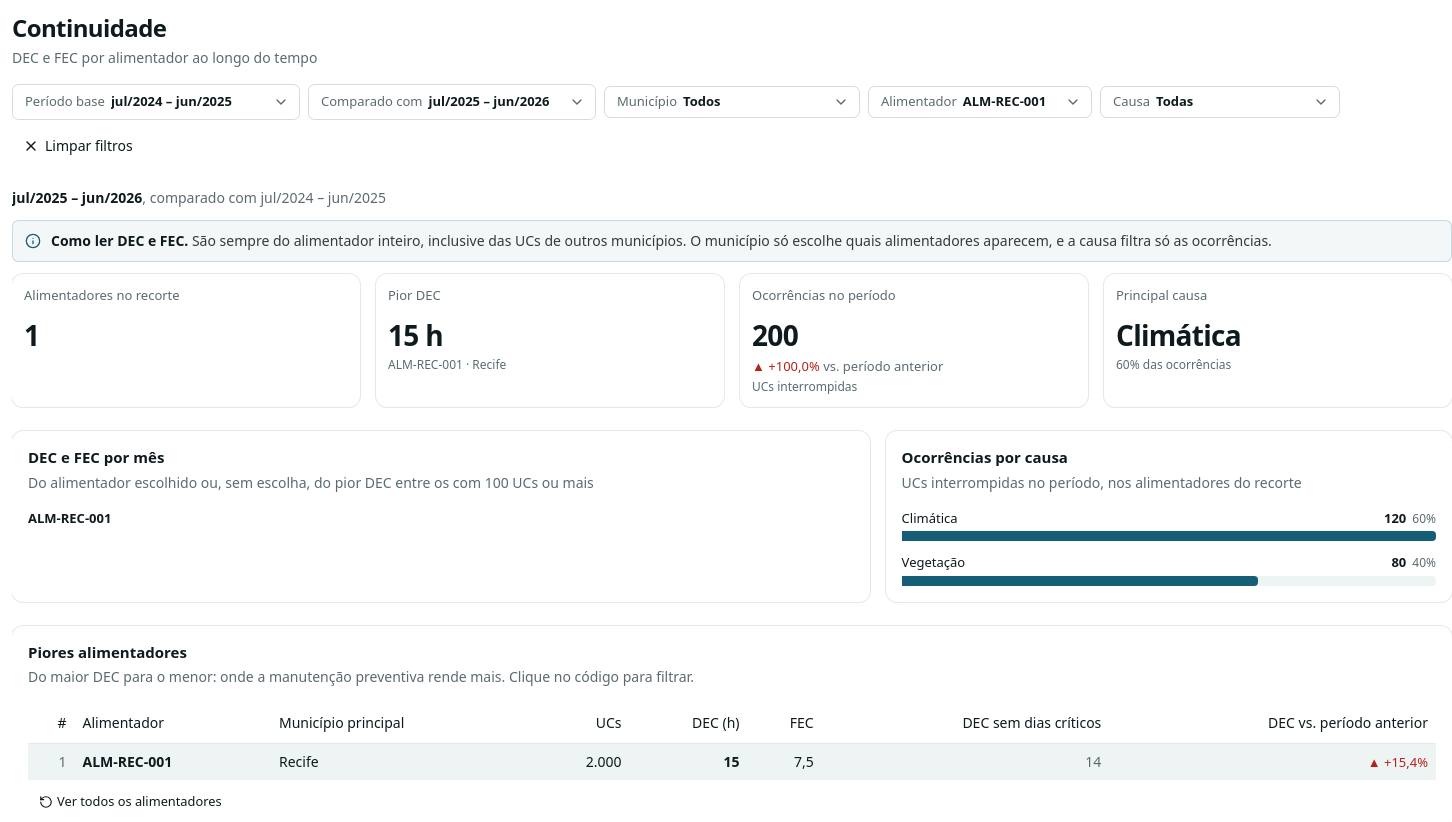
Test case: com um alimentador escolhido, o ranking oferece voltar a todos sem subir até os filtros
Check: the text "ALM-REC-001" below "DEC e FEC por mês" is shown, box [28,508,111,526]
Click the button "Ver todos os alimentadores" at (130,802), box [28,788,232,816]
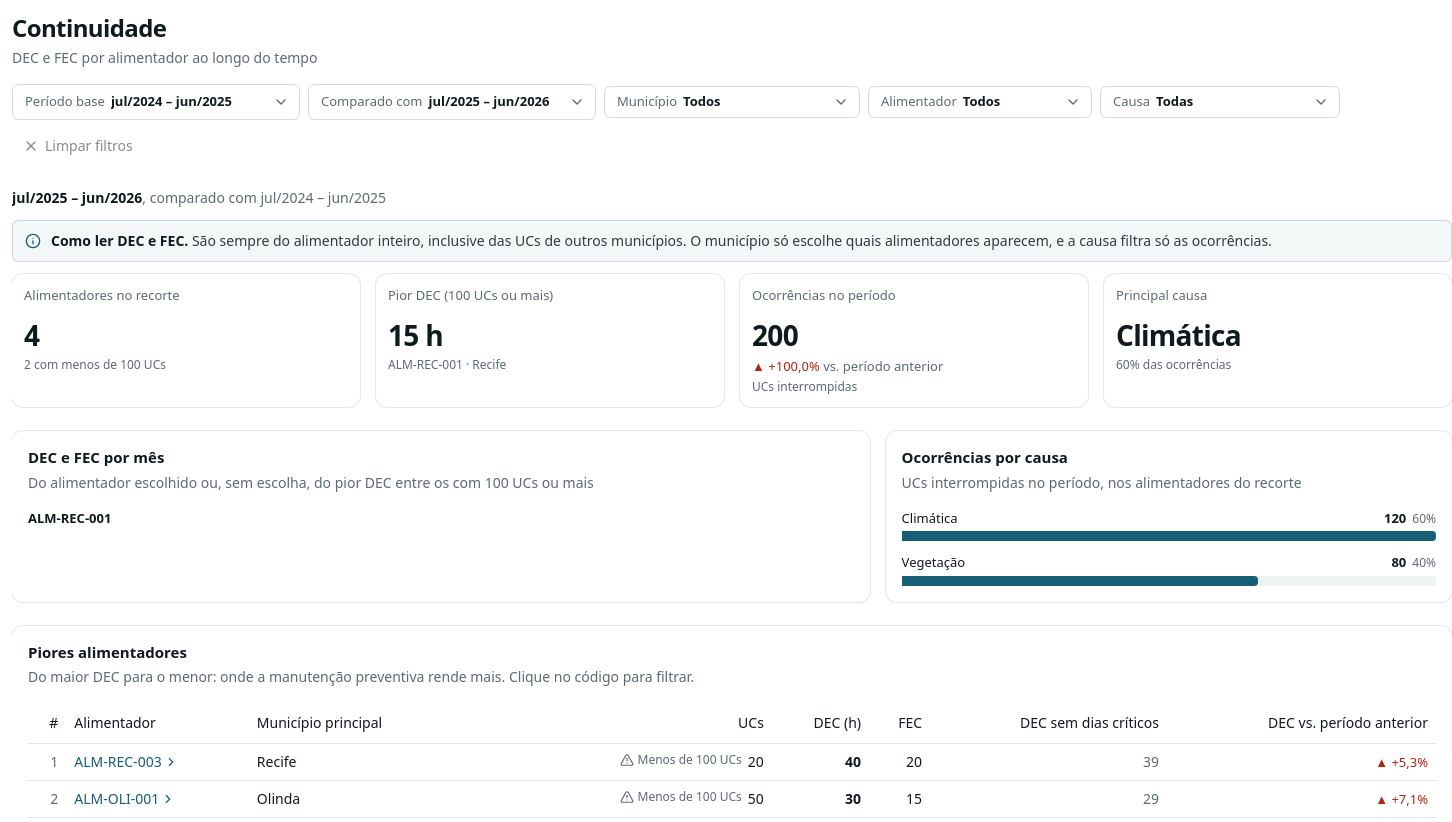
Check: the number of buttons "ALM-REC-003" is 4
Check: the button "Ver todos os alimentadores" is gone
